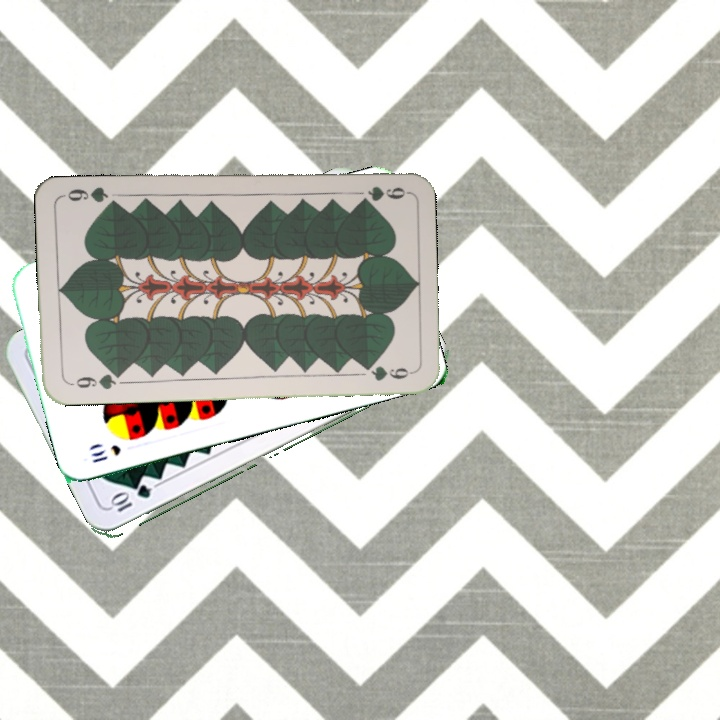G10: (107, 482, 155, 515)
G9: (65, 368, 124, 392), (363, 182, 408, 201)
S10: (87, 440, 124, 466)
